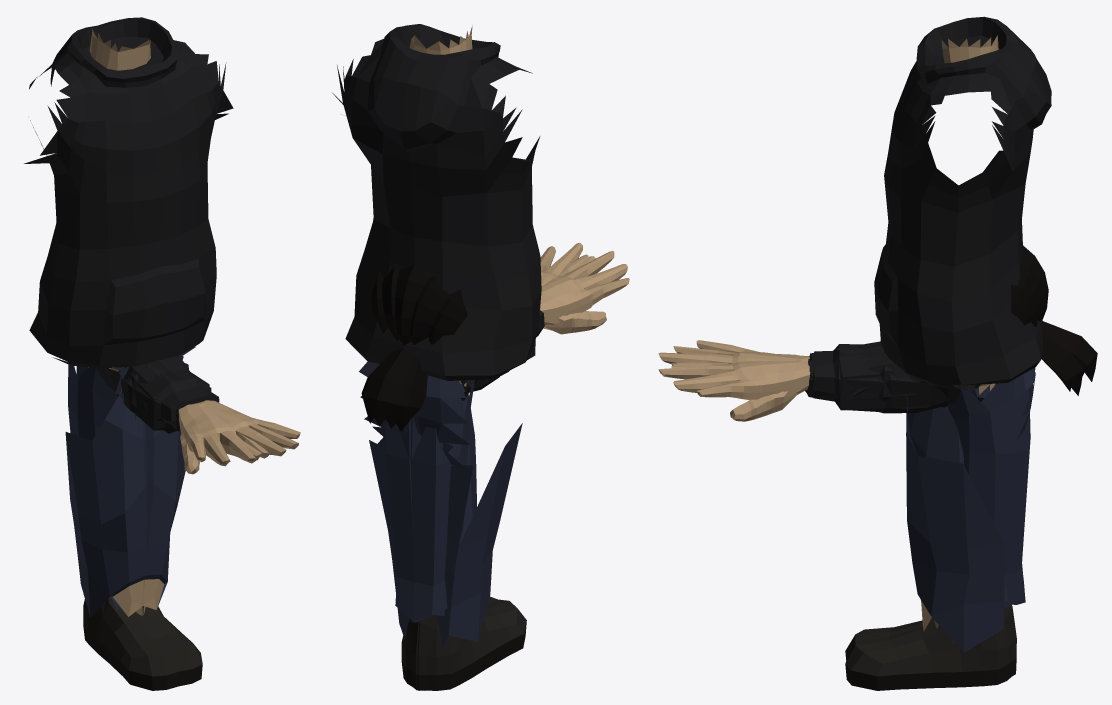
Rendered from bandit.glb.
3 renders of one model, left to right at view 1: azimuth 30°, elevation 25°; view 2: azimuth 150°, elevation 25°; view 3: azimuth 270°, elevation 25°, orthographic. The views are drawn at different scales.
Visible parts, largest first — view 1: torso, thighL, thighR, shinR, foreR, foreL, shinL, upperR; view 2: torso, shinR, head, shinL, thighL, foreR, thighR, foreL; view 3: torso, thighR, shinR, shinL, foreL, foreR, head, thighL, upperL.
Part boxes in pixels (x1=…): torso: x1=24, y1=17, x2=233, y2=420; thighL: x1=65, y1=366, x2=147, y2=617; thighR: x1=100, y1=346, x2=195, y2=615; shinR: x1=76, y1=366, x2=178, y2=690; foreR: x1=96, y1=357, x2=270, y2=466; foreL: x1=108, y1=357, x2=300, y2=474; shinL: x1=68, y1=364, x2=202, y2=686; upperR: x1=98, y1=359, x2=185, y2=411; torso: x1=332, y1=24, x2=541, y2=474; shinR: x1=385, y1=398, x2=526, y2=690; head: x1=361, y1=264, x2=467, y2=431; shinL: x1=401, y1=380, x2=497, y2=690; thighL: x1=436, y1=398, x2=522, y2=649; foreR: x1=461, y1=251, x2=629, y2=400; thighR: x1=369, y1=383, x2=476, y2=640; foreL: x1=460, y1=242, x2=606, y2=391; torso: x1=874, y1=16, x2=1051, y2=439; thighR: x1=906, y1=403, x2=1004, y2=652; shinR: x1=845, y1=385, x2=1030, y2=676; shinL: x1=845, y1=379, x2=1028, y2=690; foreL: x1=658, y1=350, x2=983, y2=413; foreR: x1=658, y1=340, x2=981, y2=421; head: x1=975, y1=245, x2=1097, y2=395; thighL: x1=906, y1=374, x2=1023, y2=643; upperL: x1=836, y1=341, x2=966, y2=403.
Bounding box in the file's own units: 0.3869 × 1.11 × 0.6788.
